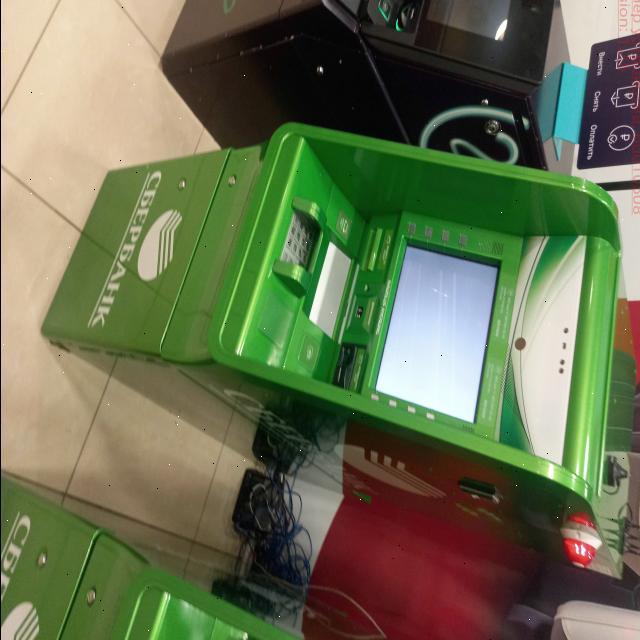bank: (33, 112, 621, 527), (1, 471, 337, 640)
